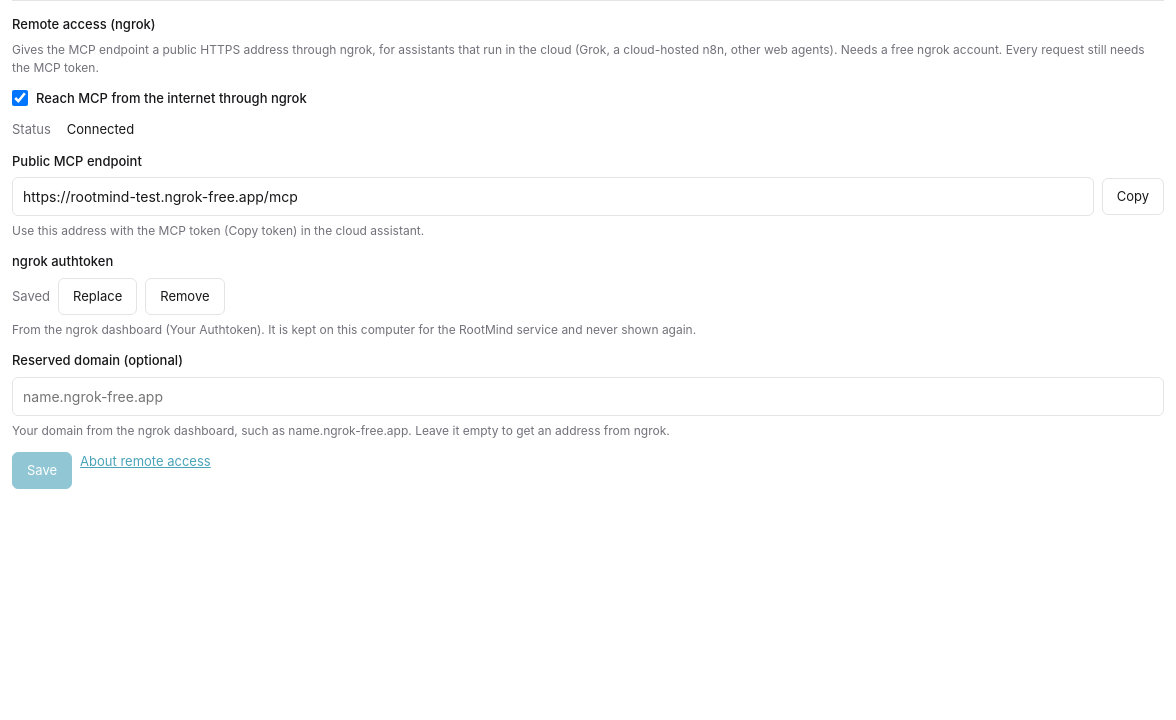
Test: RemoteAccess › turns it off without asking
This screenshot has width=1176, height=720.
Expected: the text "Connected" is shown, [67, 121, 134, 137]
Step 1. Click the checkbox labelled "Reach MCP from the internet through ngrok" → (20,98), box [12, 90, 28, 106]
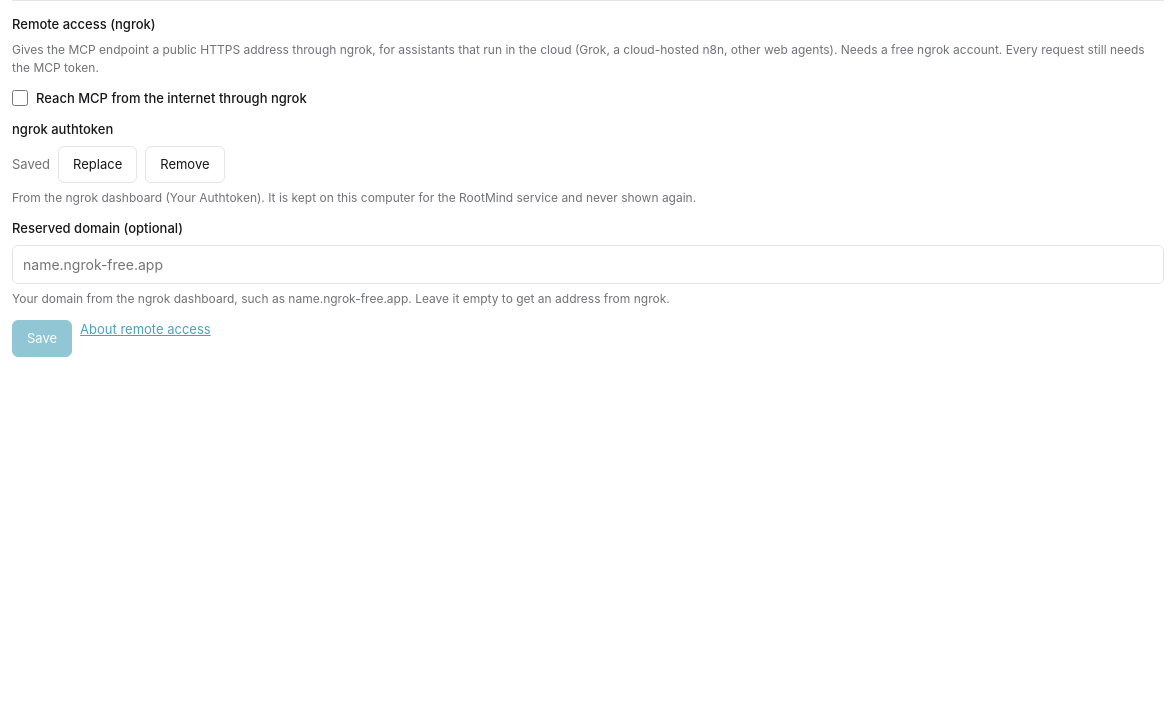
Expected: the text "Connected" is gone
